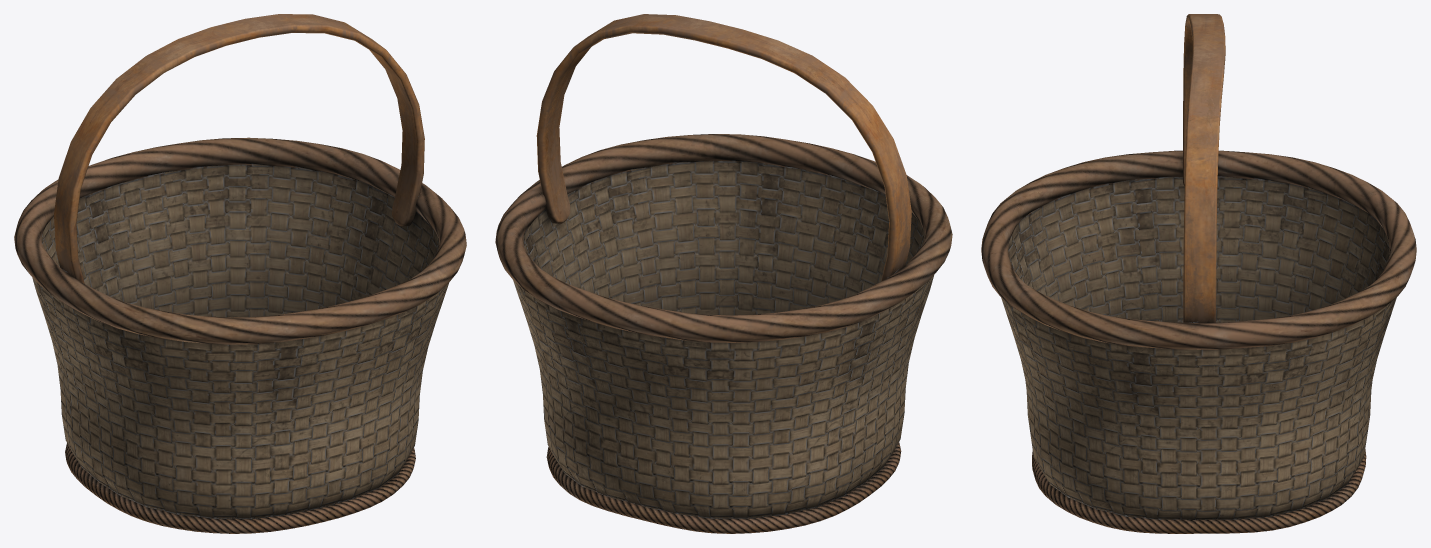
The model's file is Basket.fbx.
The picture shows the model from 3 angles, left to right: view 1: azimuth 30°, elevation 25°; view 2: azimuth 150°, elevation 25°; view 3: azimuth 270°, elevation 25°; orthographic projection. The views are drawn at different scales.
Visible parts, largest first — view 1: Basket_low; view 2: Basket_low; view 3: Basket_low.
Part boxes in pixels (<box>): Basket_low: <box>14,14,466,533</box>; Basket_low: <box>495,14,952,533</box>; Basket_low: <box>981,14,1416,533</box>.
Bounding box in the file's own units: 210 × 227 × 210.
